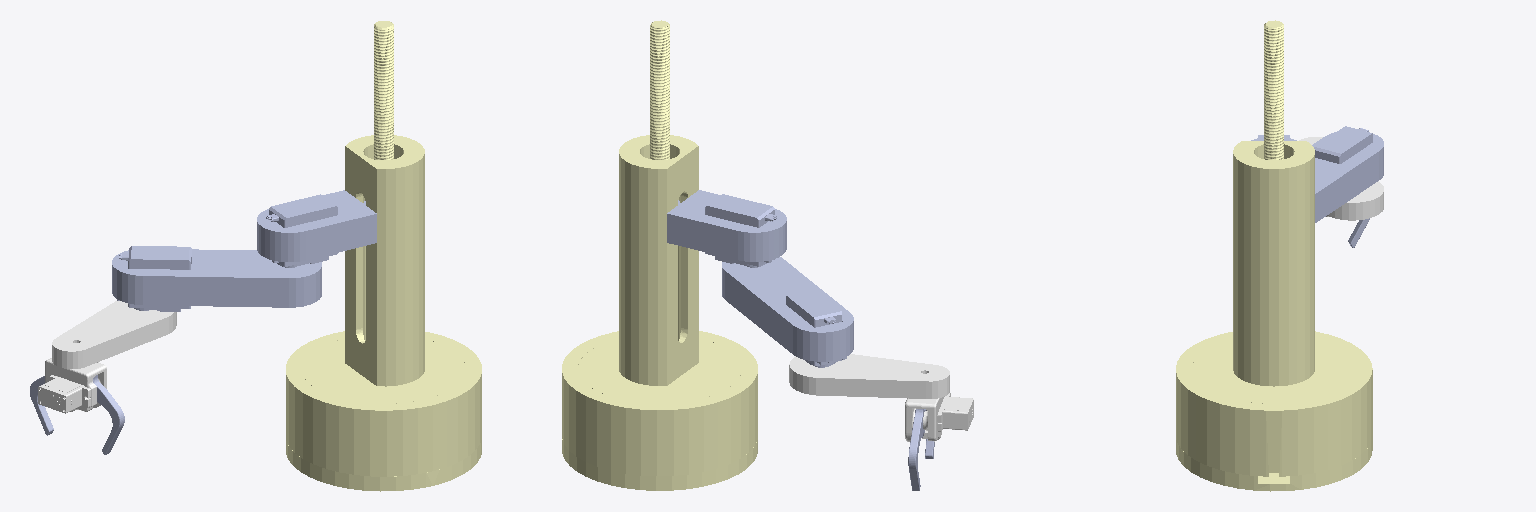
The robot description file, URDF, robot "grip":
<?xml version="1.0" encoding="utf-8"?>
<!-- This URDF was automatically created by SolidWorks to URDF Exporter! Originally created by [author] ([email redacted]) 
     Commit Version: 1.5.1-0-g916b5db  Build Version: 1.5.7152.31018
     For more information, please see http://wiki.ros.org/sw_urdf_exporter -->
<robot
  name="grip">
  <link
    name="base_link">
    <inertial>
      <origin
        xyz="0.0106772900713487 -0.1710070387097 -1.87200468439584E-09"
        rpy="0 0 0" />
      <mass
        value="2.74541777293957" />
      <inertia
        ixx="0.00382413685264724"
        ixy="-2.98374022975497E-06"
        ixz="2.39860933769004E-11"
        iyy="0.00600053273897555"
        iyz="3.32504351244898E-10"
        izz="0.00379898220168142" />
    </inertial>
    <visual>
      <origin
        xyz="0 0 0"
        rpy="0 0 0" />
      <geometry>
        <mesh
          filename="package://sg/meshes/base_link.STL" />
      </geometry>
      <material
        name="blue">
        <color
          rgba="1 1 .8 1" />
      </material>
    </visual>
    <collision>
      <origin
        xyz="0 0 0"
        rpy="0 0 0" />
      <geometry>
        <mesh
          filename="package://sg/meshes/base_link.STL" />
      </geometry>
    </collision>
  </link>
  <link
    name="prismatic_link">
    <inertial>
      <origin
        xyz="0.0127640697422493 0.0463525957052715 0.0842638148201117"
        rpy="0 0 0" />
      <mass
        value="0.070294666005926" />
      <inertia
        ixx="2.40037641064892E-05"
        ixy="-3.46482664427356E-06"
        ixz="-1.11014741540259E-08"
        iyy="1.2375403757174E-05"
        iyz="-4.03522045563068E-08"
        izz="2.80885088048895E-05" />
    </inertial>
    <visual>
      <origin
        xyz="0 0 0"
        rpy="0 0 0" />
      <geometry>
        <mesh
          filename="package://sg/meshes/prismatic_link.STL" />
      </geometry>
      <material
        name="nose">
        <color
          rgba="0.792156862745098 0.819607843137255 0.933333333333333 1" />
      </material>
    </visual>
    <collision>
      <origin
        xyz="0 0 0"
        rpy="0 0 0" />
      <geometry>
        <mesh
          filename="package://sg/meshes/prismatic_link.STL" />
      </geometry>
    </collision>
  </link>
  
  <joint
    name="prismatic_joint"
    type="prismatic">
    <origin
      xyz="0.010624 0 0.042944"
      rpy="-3.1416 0 -1.8395" />
    <parent
      link="base_link" />
    <child
      link="prismatic_link" />
    <axis
      xyz="0 0 1" />
    <limit
      lower="0"
      upper="0.03"
      effort="1000.0"
      velocity="0.5" />
  </joint>

  <link
    name="rotate1_link">
    <inertial>
      <origin
        xyz="0.0492358258451967 0.0168319497489518 1.65217665937245E-13"
        rpy="0 0 0" />
      <mass
        value="0.108807423101855" />
      <inertia
        ixx="1.8033260032552E-05"
        ixy="-4.18158902541371E-08"
        ixz="-6.19823636436901E-12"
        iyy="0.000112008922993143"
        iyz="4.39702449137292E-17"
        izz="0.000105065651157087" />
    </inertial>
    <visual>
      <origin
        xyz="0 0 0"
        rpy="0 0 0" />
      <geometry>
        <mesh
          filename="package://sg/meshes/rotate1_link.STL" />
      </geometry>
      <material
        name="">
        <color
          rgba="0.792156862745098 0.819607843137255 0.933333333333333 1" />
      </material>
    </visual>
    <collision>
      <origin
        xyz="0 0 0"
        rpy="0 0 0" />
      <geometry>
        <mesh
          filename="package://sg/meshes/rotate1_link.STL" />
      </geometry>
    </collision>
  </link>


  <joint
    name="rotate1_joint"
    type="revolute">
    <origin
      xyz="0.01779 0.064603 0.09825"
      rpy="1.5708 0 1.8656" />
    <parent
      link="prismatic_link" />
    <child
      link="rotate1_link" />
    <axis
      xyz="0 1 0" />
    <limit
      lower="-2"
      upper="1"
      effort="1000.0"
      velocity="0.5" />
  </joint>

  <link
    name="rotate2_link">
    <inertial>
      <origin
        xyz="0.00086476424561344 -0.00162723281599192 0.00757252072679243"
        rpy="0 0 0" />
      <mass
        value="0.0561685872042524" />
      <inertia
        ixx="2.7382969834396E-05"
        ixy="-3.4669972679723E-08"
        ixz="2.06077710897114E-07"
        iyy="3.07387598441115E-05"
        iyz="9.82303892347549E-08"
        izz="6.29807798586307E-06" />
    </inertial>
    <visual>
      <origin
        xyz="0 0 0"
        rpy="0 0 0" />
      <geometry>
        <mesh
          filename="package://grip/meshes/rotate2_link.STL" />
      </geometry>
      <material
        name="">
        <color
          rgba="1 1 1 1" />
      </material>
    </visual>
    <collision>
      <origin
        xyz="0 0 0"
        rpy="0 0 0" />
      <geometry>
        <mesh
          filename="package://grip/meshes/rotate2_link.STL" />
      </geometry>
    </collision>
  </link>

  <joint
    name="rotate2_joint"
    type="revolute">
    <origin
      xyz="0.09 0.0495 0"
      rpy="-3.1416 -0.66095 3.1416" />
    <parent
      link="rotate1_link" />
    <child
      link="rotate2_link" />
    <axis
      xyz="0 -1 0" />
    <limit
      lower="0.50"
      upper="-2.50"
      effort="1000.0"
      velocity="0.5" />
  </joint>
  <link
    name="rotate3_link">
    <inertial>
      <origin
        xyz="-0.00451463619452523 0.0120910315552283 0.00250000004769779"
        rpy="0 0 0" />
      <mass
        value="0.00255992418605876" />
      <inertia
        ixx="5.12494850815877E-07"
        ixy="6.65037857609151E-08"
        ixz="4.23599489143556E-16"
        iyy="1.27933754251935E-07"
        iyz="-1.53834621949602E-16"
        izz="6.29907867097713E-07" />
    </inertial>
    <visual>
      <origin
        xyz="0 0 0"
        rpy="0 0 0" />
      <geometry>
        <mesh
          filename="package://grip/meshes/rotate3_link.STL" />
      </geometry>
      <material
        name="">
        <color
          rgba="0.792156862745098 0.819607843137255 0.933333333333333 1" />
      </material>
    </visual>
    <collision>
      <origin
        xyz="0 0 0"
        rpy="0 0 0" />
      <geometry>
        <mesh
          filename="package://grip/meshes/rotate3_link.STL" />
      </geometry>
    </collision>
  </link>
  <joint
    name="rotate3_joint"
    type="revolute">
    <origin
      xyz="0.0093336 0.0165 -0.060971"
      rpy="3.1416 0 2.6543" />
    <parent
      link="rotate2_link" />
    <child
      link="rotate3_link" />
    <axis
      xyz="0 0 1" />
    <limit
      lower="-0.51"
      upper="0"
      effort="1000.0"
      velocity="0.5" />
  </joint>
  <link
    name="rotate4_link">
    <inertial>
      <origin
        xyz="-0.0011767487651098 0.0135338945493889 0.00249999780162471"
        rpy="0 0 0" />
      <mass
        value="0.00265621110159474" />
      <inertia
        ixx="5.52061946815856E-07"
        ixy="-3.97418889132207E-08"
        ixz="-2.64831638629068E-14"
        iyy="1.29055482093686E-07"
        iyz="-4.99182945889298E-14"
        izz="6.70195998052915E-07" />
    </inertial>
    <visual>
      <origin
        xyz="0 0 0"
        rpy="0 0 0" />
      <geometry>
        <mesh
          filename="package://grip/meshes/rotate4_link.STL" />
      </geometry>
      <material
        name="">
        <color
          rgba="0.792156862745098 0.819607843137255 0.933333333333333 1" />
      </material>
    </visual>
    <collision>
      <origin
        xyz="0 0 0"
        rpy="0 0 0" />
      <geometry>
        <mesh
          filename="package://grip/meshes/rotate4_link.STL" />
      </geometry>
    </collision>
  </link>
  <joint
    name="rotate4_joint"
    type="revolute">
    <origin
      xyz="-0.0090778 0.01666 -0.065971"
      rpy="0 0 0.77025" />
    <parent
      link="rotate2_link" />
    <child
      link="rotate4_link" />
    <axis
      xyz="0 0 1" />
    <limit
      lower="-0.51"
      upper="0"
      effort="1000.0"
      velocity="0.5" />
  </joint>
</robot>

--- What the picture shows (computed from the rendered views, not written in the file) ---
The picture shows the robot from 3 angles, left to right: view 1: azimuth 30°, elevation 25°; view 2: azimuth 150°, elevation 25°; view 3: azimuth 270°, elevation 25°; orthographic projection.
Model grip with 6 links and 5 joints (4 revolute, 1 prismatic), rooted at base_link, posed all joints at 0.
Visible links, largest first — view 1: base_link, rotate1_link, rotate2_link, prismatic_link, rotate3_link; view 2: base_link, rotate1_link, rotate2_link, prismatic_link, rotate4_link; view 3: base_link, rotate1_link, rotate2_link.
Boxes of the visible links, x1,y1,x2,y2 form: base_link: (286,21,481,491); rotate1_link: (112,246,321,311); rotate2_link: (38,301,176,413); prismatic_link: (257,190,376,267); rotate3_link: (93,375,124,454); base_link: (562,20,757,490); rotate1_link: (722,257,853,367); rotate2_link: (789,354,973,441); prismatic_link: (667,190,786,267); rotate4_link: (908,409,925,490); base_link: (1176,20,1372,491); rotate1_link: (1312,126,1383,222); rotate2_link: (1299,137,1383,220).
Bounding box of the posed robot: 0.2937 × 0.1288 × 0.29 m (x, y, z).
6 mesh visuals loaded from 6 distinct referenced files (6 binary STL).